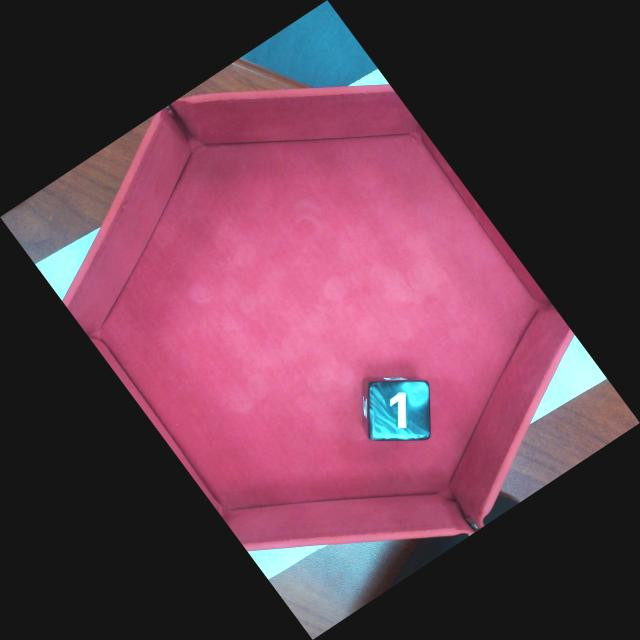dice: (368, 379, 431, 442)
